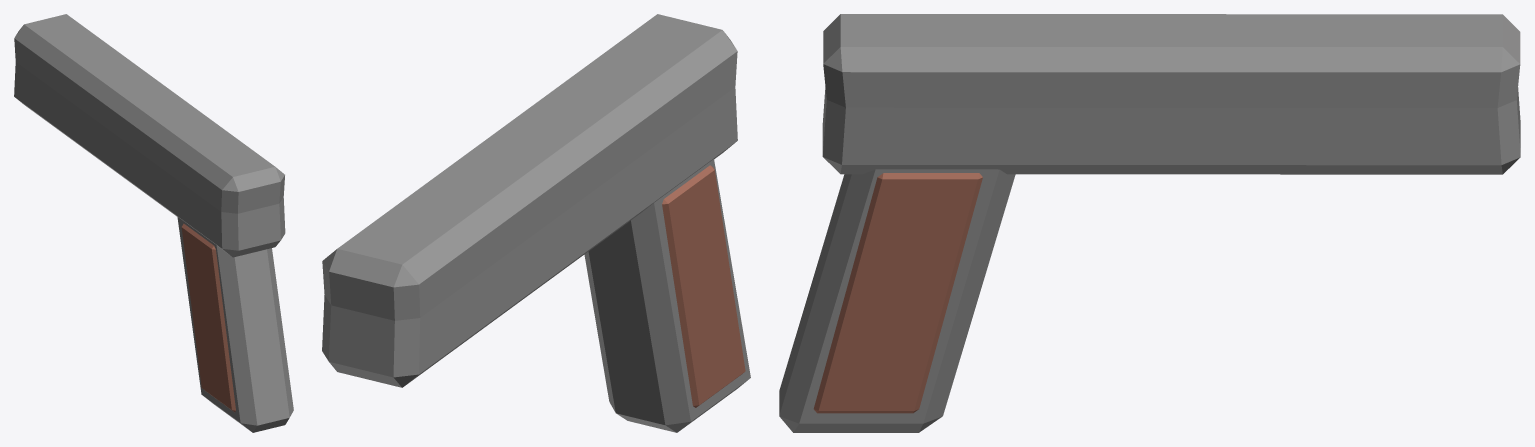
Rendered from gun.fbx.
3 renders of one model, left to right at view 1: azimuth 30°, elevation 25°; view 2: azimuth 150°, elevation 25°; view 3: azimuth 270°, elevation 25°, orthographic. The views are drawn at different scales.
Visible parts, largest first — view 1: Cube; view 2: Cube; view 3: Cube.
Boxes of the visible parts, x1=… form: Cube: x1=14, y1=14, x2=293, y2=432; Cube: x1=322, y1=14, x2=750, y2=432; Cube: x1=779, y1=14, x2=1520, y2=432.
Bounding box in the file's own units: 60.38 × 225 × 387.
